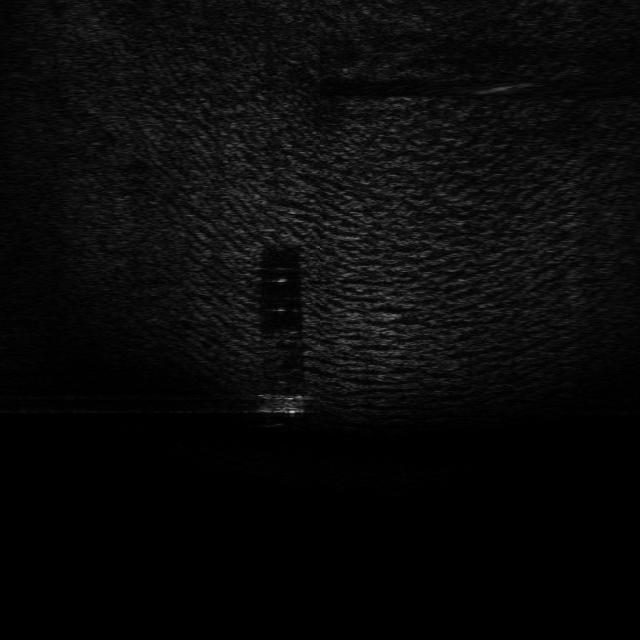cube: (257, 391, 309, 416)
